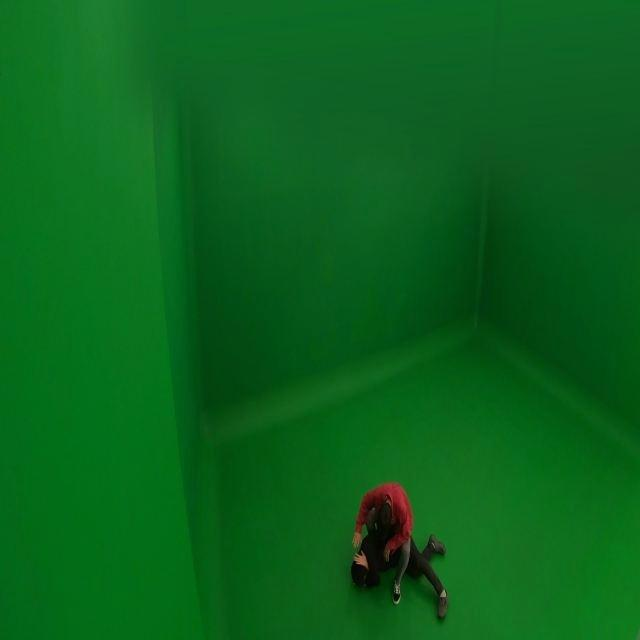fight: (347, 483, 450, 618)
